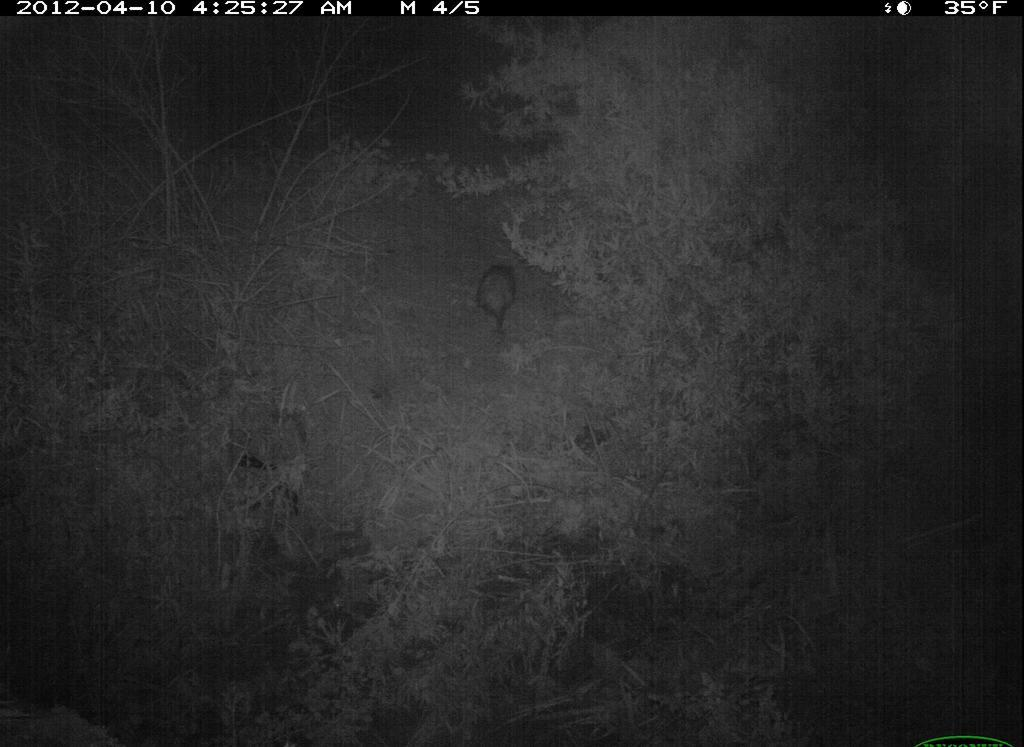opossum: (466, 257, 538, 351)
